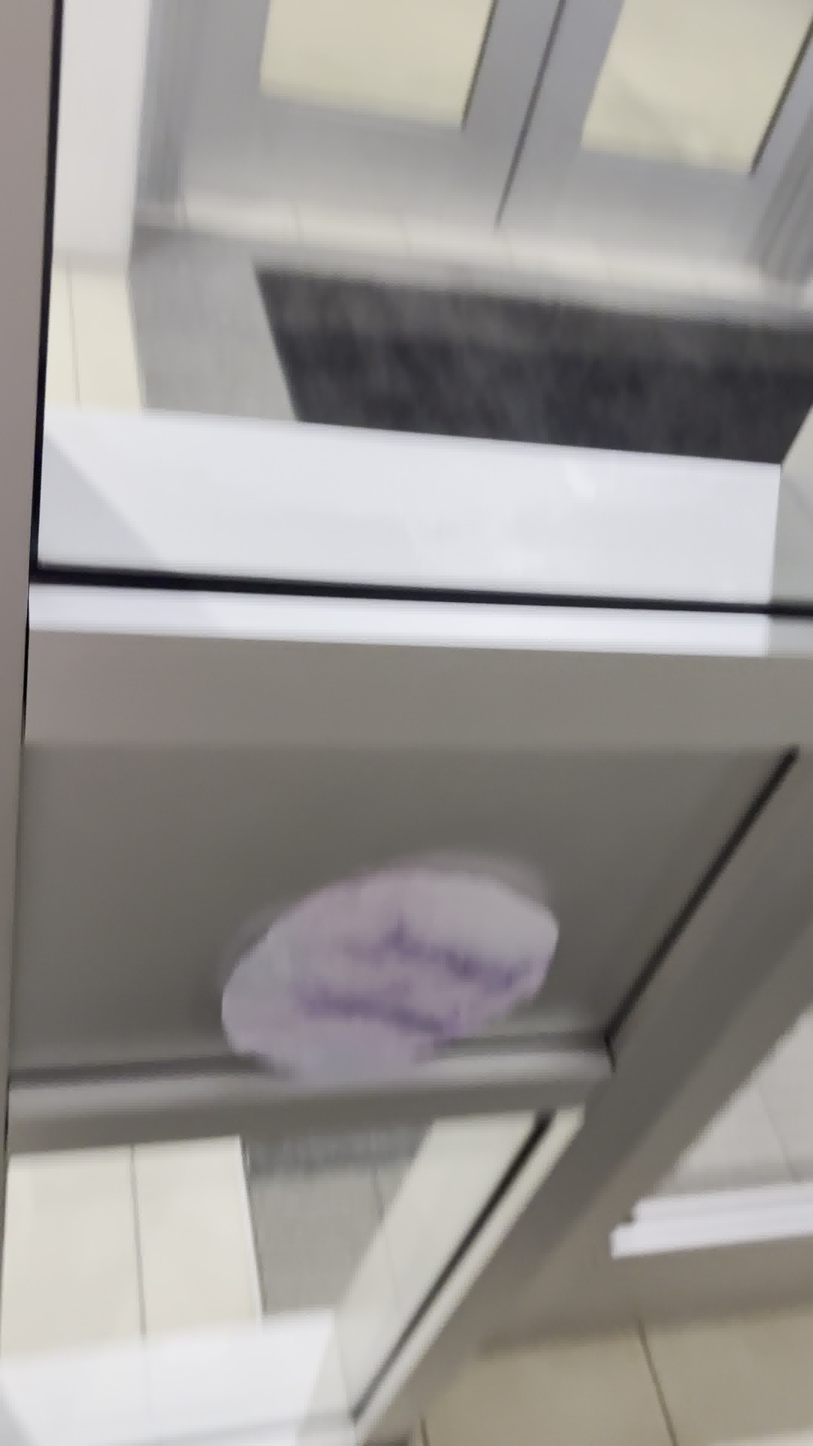Target: (212, 861, 567, 1090)
